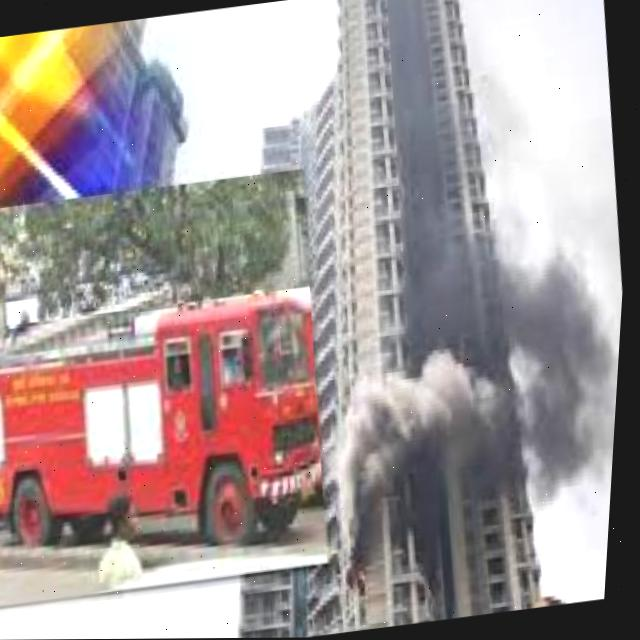Fire Truck: (0, 287, 347, 604)
